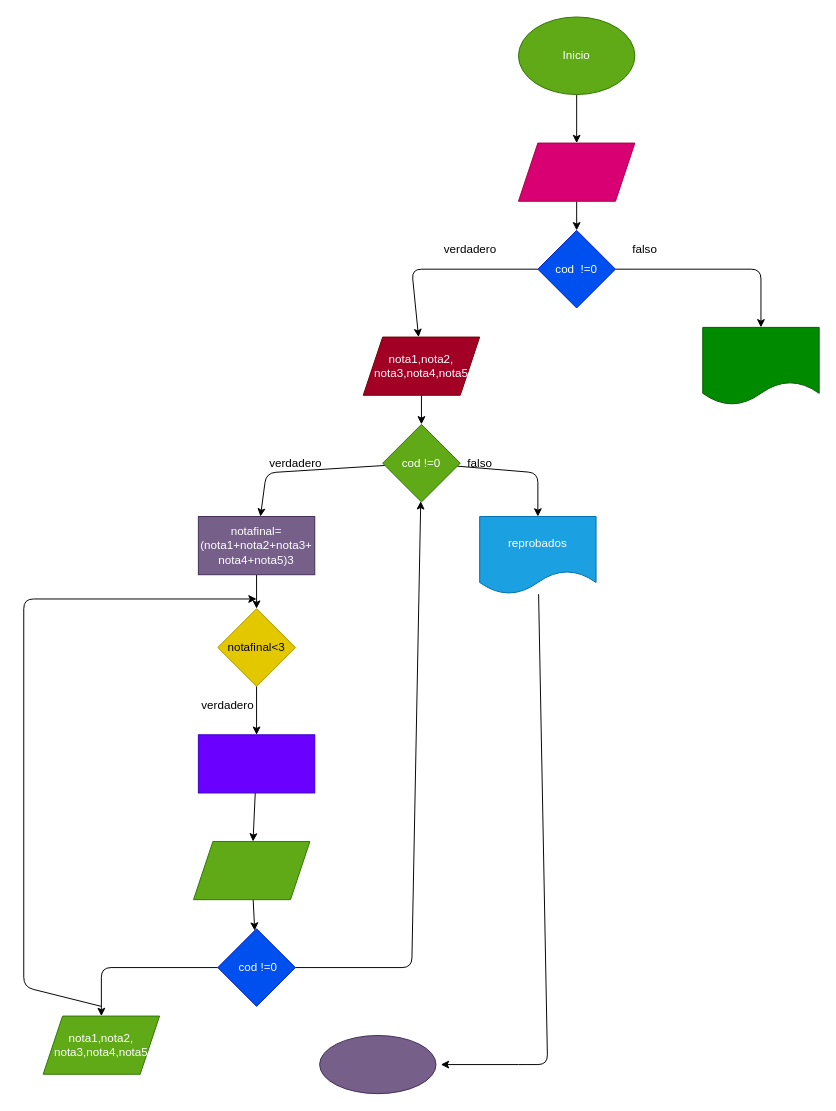
Image size: 836x1111. Some labels were removed from this diagram. The shapes that lost their labels are listed below. From the top down, each one's centre as x and y in pixels, then its label:
(x=576, y=171): cod reprobados=0
(x=760, y=365): fin de la entrada
(x=256, y=763): reprobado=+1
(x=251, y=870): cod
(x=377, y=1064): final
